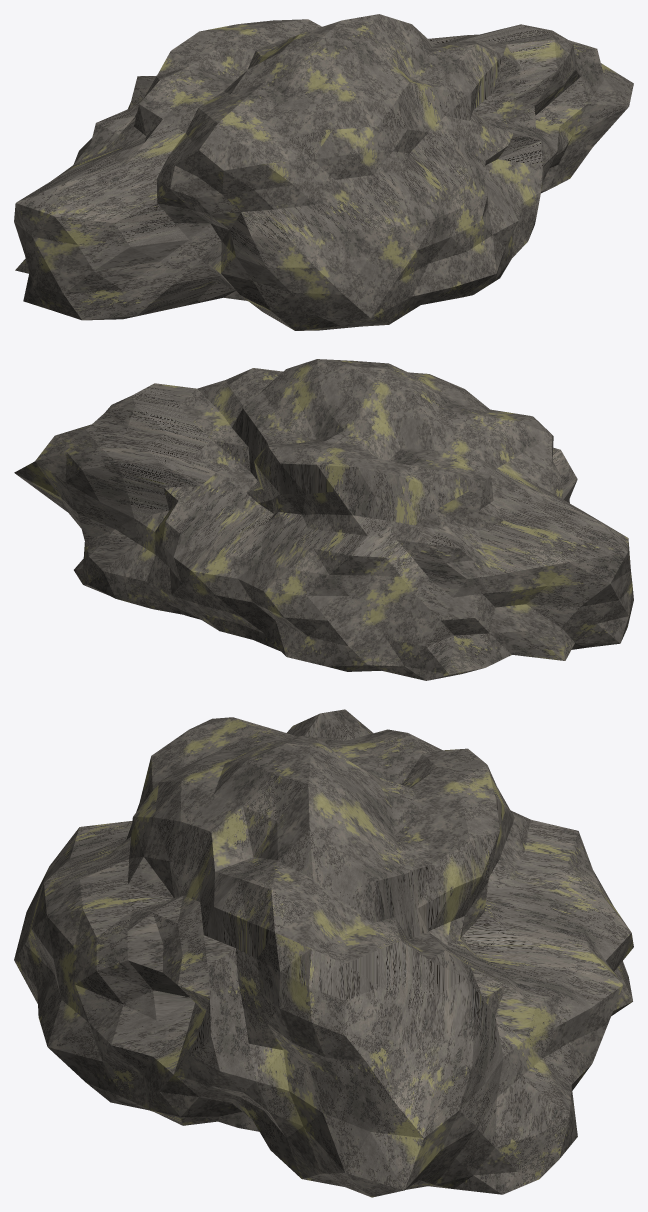
The model's file is rock_d.glb.
The picture shows the model from 3 angles, top to bottom: view 1: azimuth 30°, elevation 25°; view 2: azimuth 150°, elevation 25°; view 3: azimuth 270°, elevation 25°; orthographic projection. The views are drawn at different scales.
Visible parts, largest first — view 1: rock_d; view 2: rock_d; view 3: rock_d.
Part boxes in pixels (left/top/right/bottom): rock_d: left=14, top=14, right=633, bottom=330; rock_d: left=14, top=359, right=633, bottom=680; rock_d: left=14, top=709, right=633, bottom=1197.
Size of the model in its own units: 11.99 by 4.35 by 7.64.
1 material, 1 textured.
